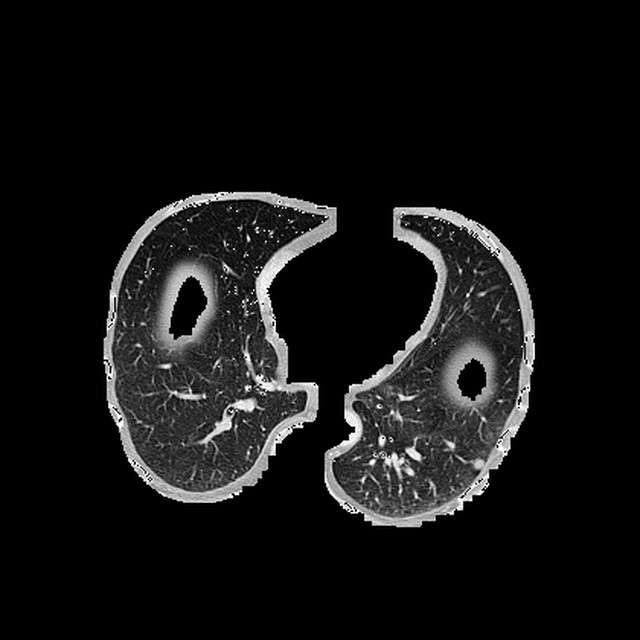PN: (472, 457, 485, 469)
